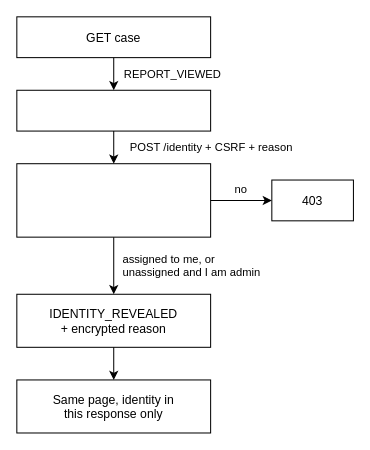
The diagram is 370 pixels wide and 450 high, and some of its shapes have lost their labels. The centre of each missing label's shape, as x and y in pixels:
"Handler?" goes at point 113,200.
"Page: identity hidden" goes at point 113,110.
